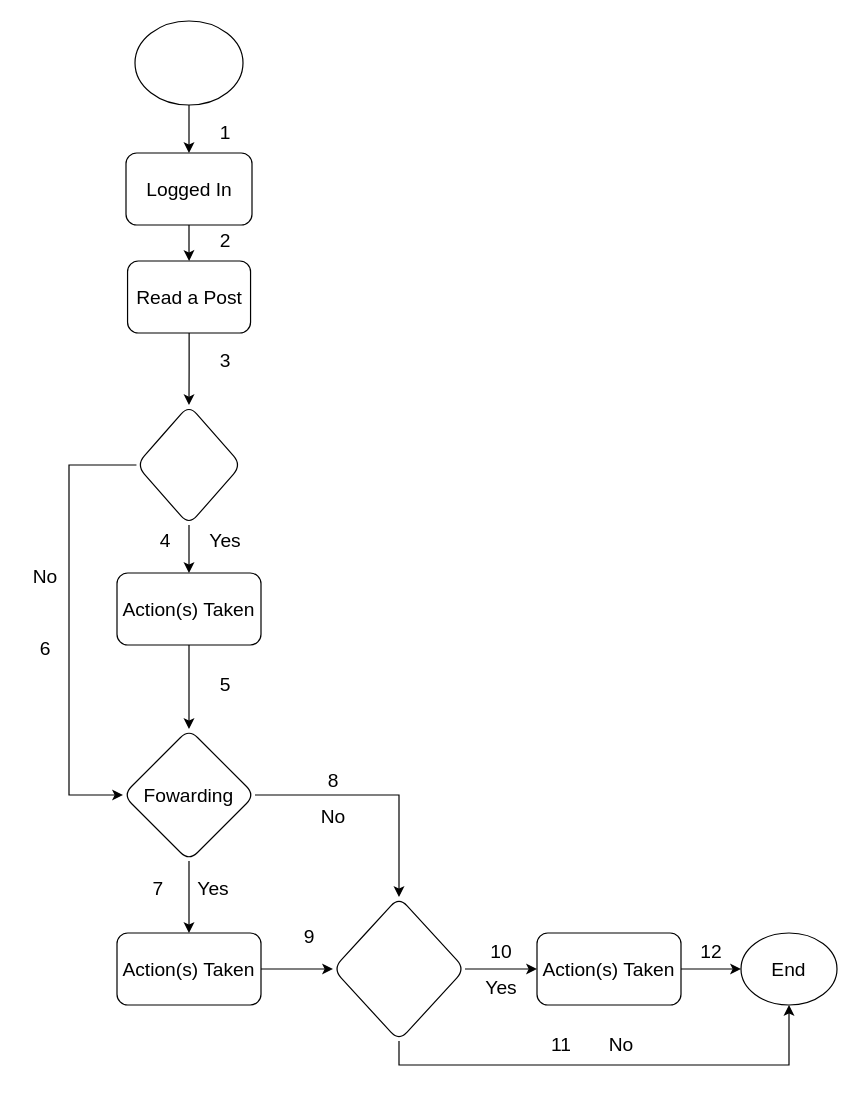
Some shapes in this 858 by 1096 pixel diagram are drawn without their labels. The shapes that lost their labels are listed below. From the top down, each one's box as (x1, y1, x2, y2) in pixels, then its label:
(134, 20, 243, 105): Start
(135, 404, 241, 525): Positive Action(s)
(332, 896, 465, 1041): Nagative Actions
